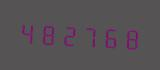eight: (37, 17, 56, 48), (118, 22, 137, 52)
four: (17, 16, 36, 47)
seven: (78, 19, 97, 50)
six: (98, 20, 117, 51)
two: (58, 18, 77, 49)
